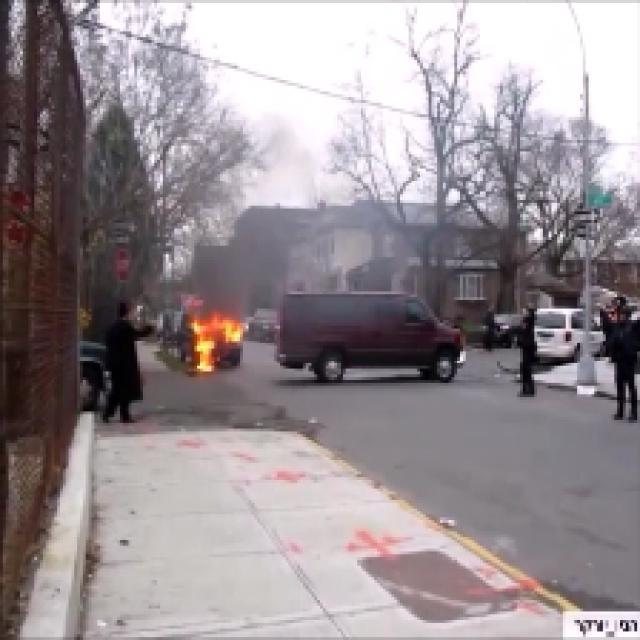Smoke: (168, 303, 274, 388)
